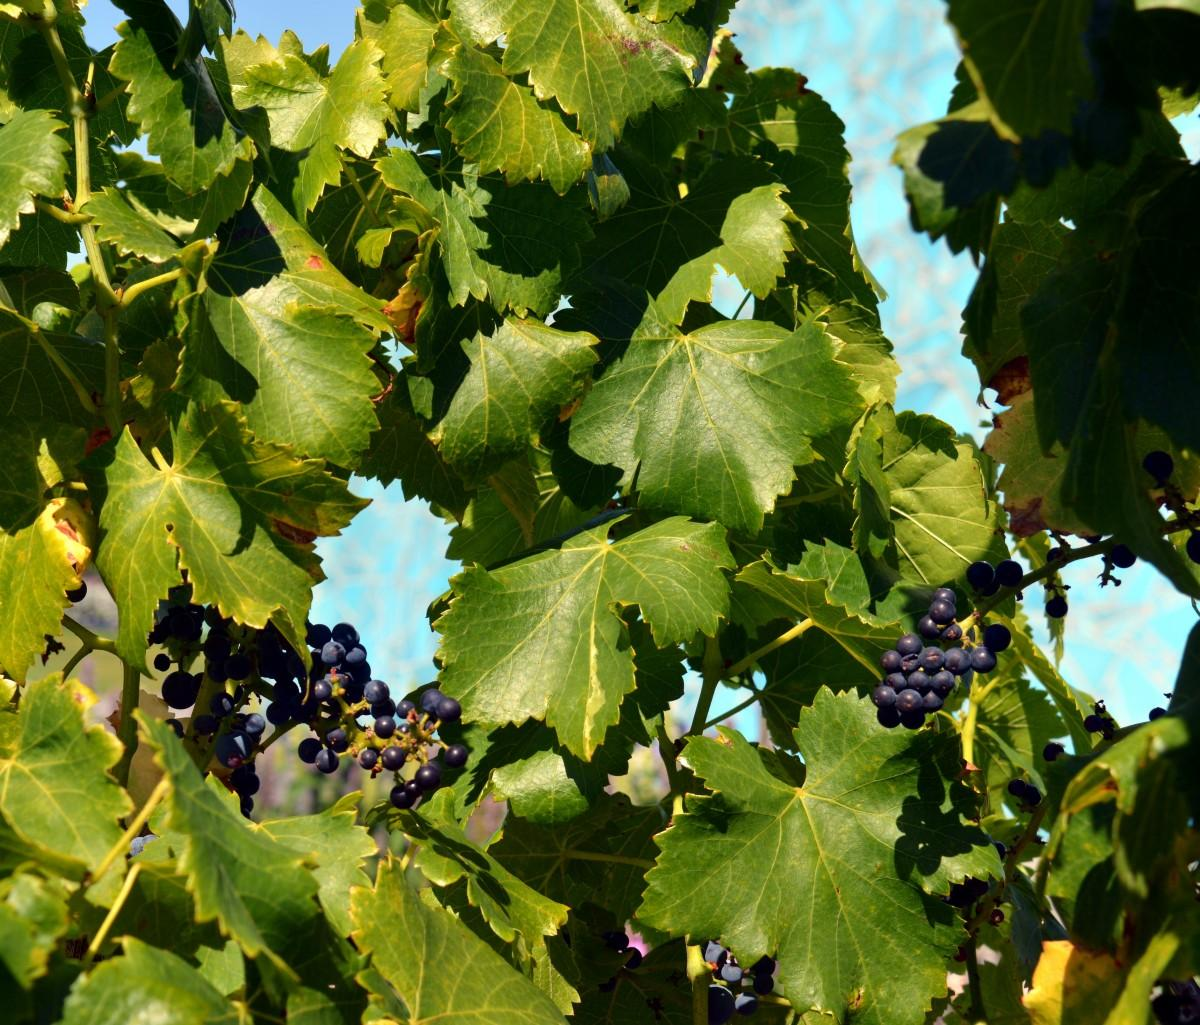grape leaf black rot: (629, 670, 963, 990), (415, 491, 755, 761), (571, 286, 859, 545), (132, 709, 323, 1009), (379, 108, 590, 321), (572, 152, 795, 337), (247, 39, 398, 212)
